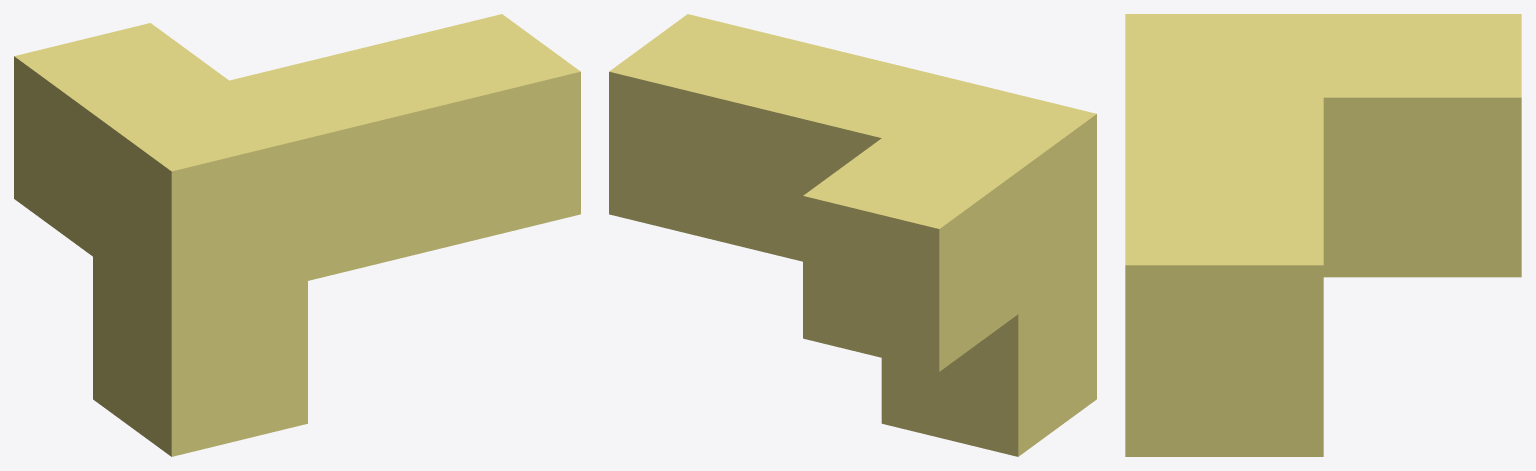
The picture shows the model from 3 angles, left to right: view 1: azimuth 30°, elevation 25°; view 2: azimuth 150°, elevation 25°; view 3: azimuth 270°, elevation 25°; orthographic projection. The views are drawn at different scales.
Parts seen in each view (by area): view 1: cube (×5); view 2: cube (×5); view 3: cube (×5).
Part boxes in pixels (x1=…): cube (×5): x1=14, y1=14, x2=580, y2=456; cube (×5): x1=609, y1=14, x2=1096, y2=456; cube (×5): x1=1125, y1=14, x2=1521, y2=456.
Size of the model in its own units: 3 by 2 by 2.
